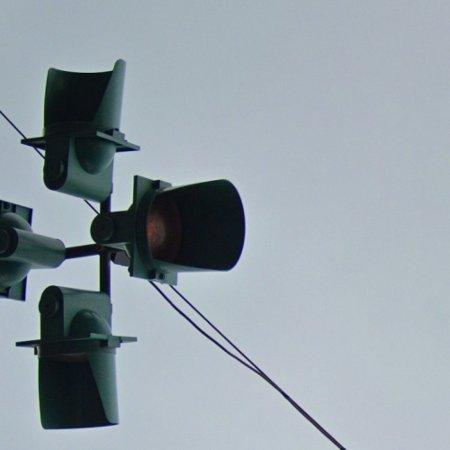traffic lights: (17, 286, 136, 429), (91, 176, 246, 284), (21, 60, 138, 202)
